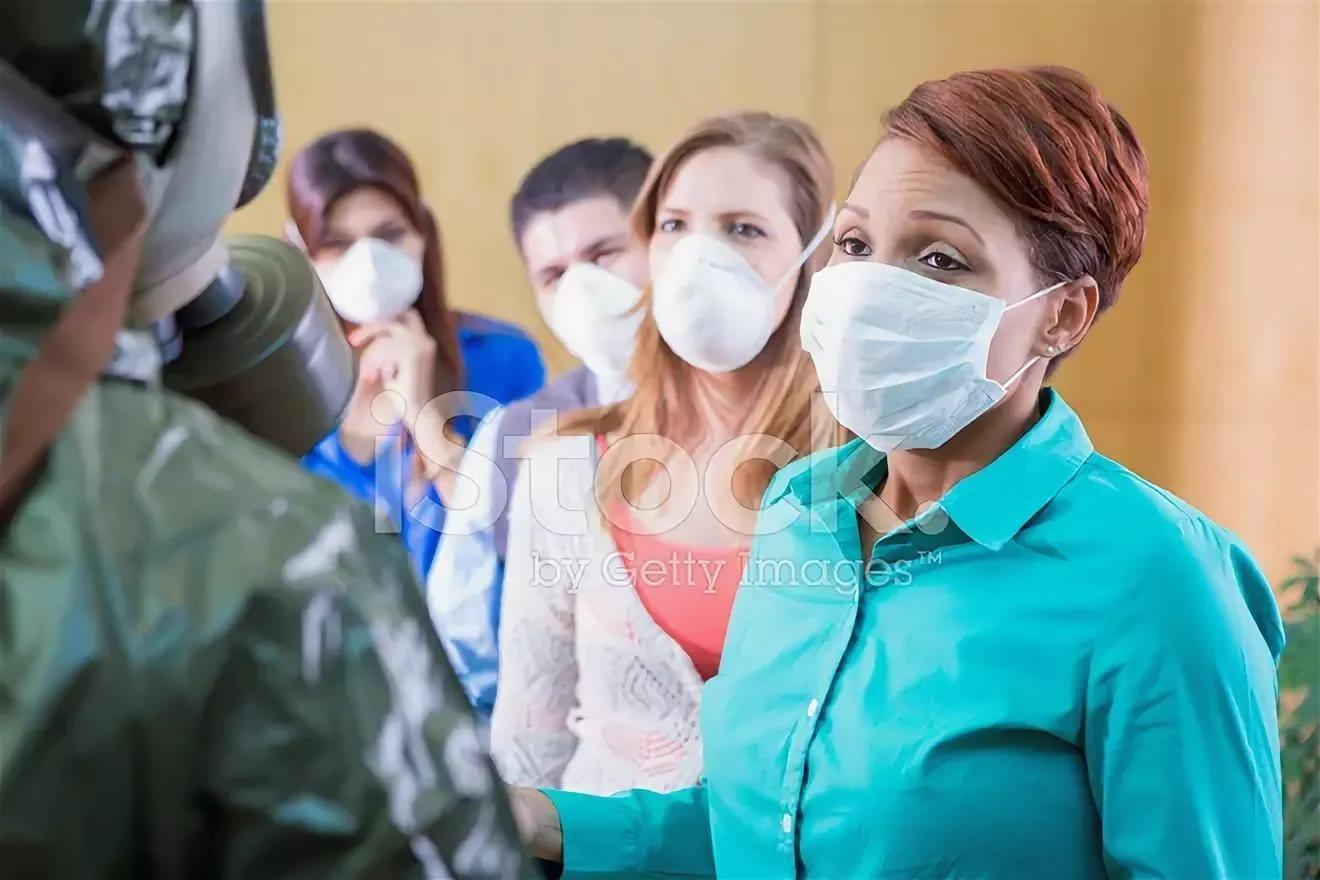mask: (815, 165, 1061, 451), (650, 155, 804, 358), (528, 195, 647, 368), (311, 160, 430, 333)
